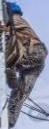boots: (20, 0, 30, 12), (0, 0, 11, 6)
hard-hat: (6, 1, 23, 14)
ppe-suit: (0, 0, 35, 65)
